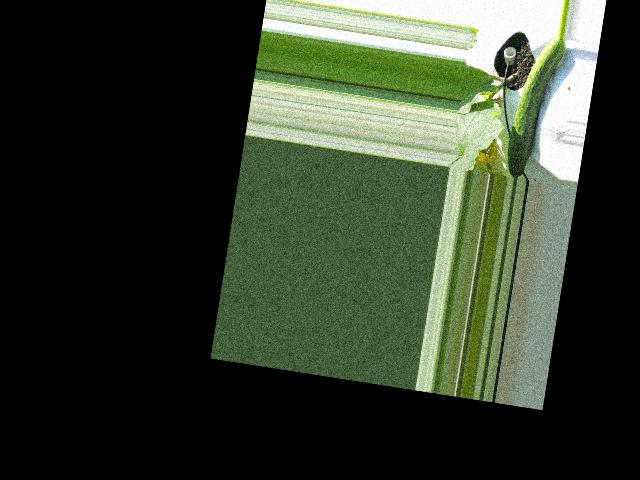cucumber: (503, 30, 567, 182)
